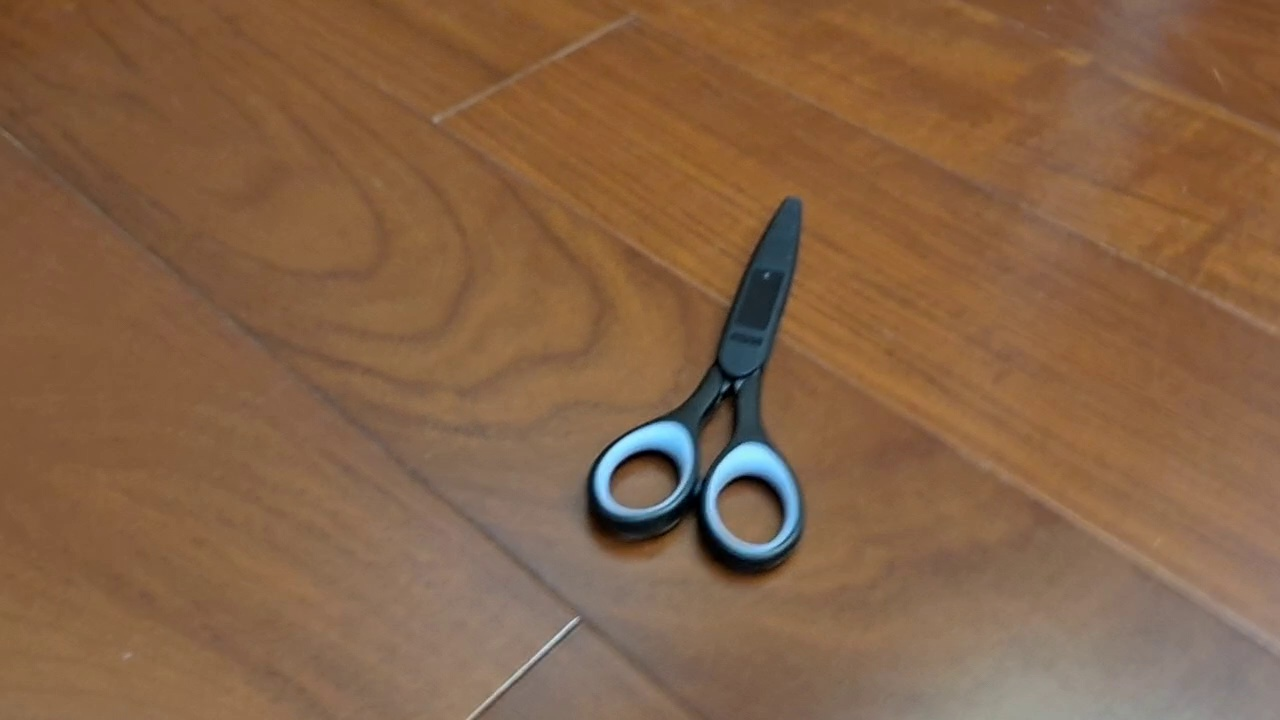scissors: (582, 193, 808, 578)
